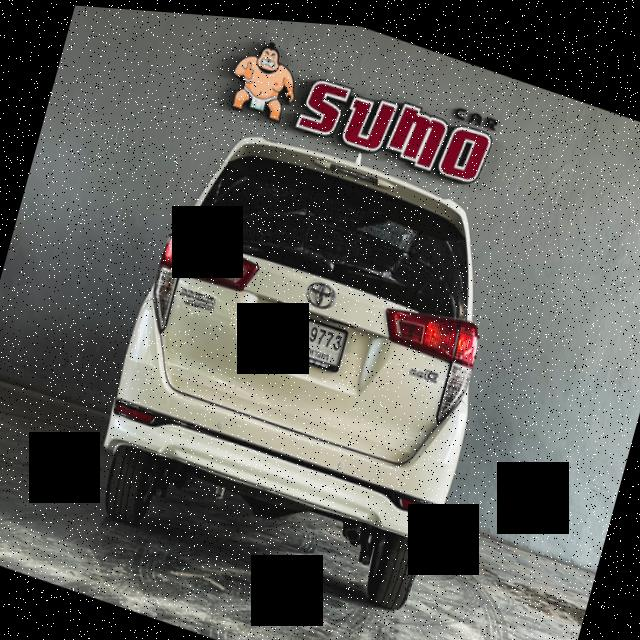text: (272, 308, 345, 359)
